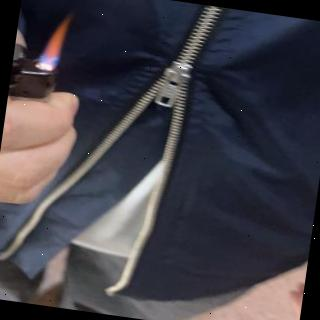fire: (37, 14, 71, 65)
